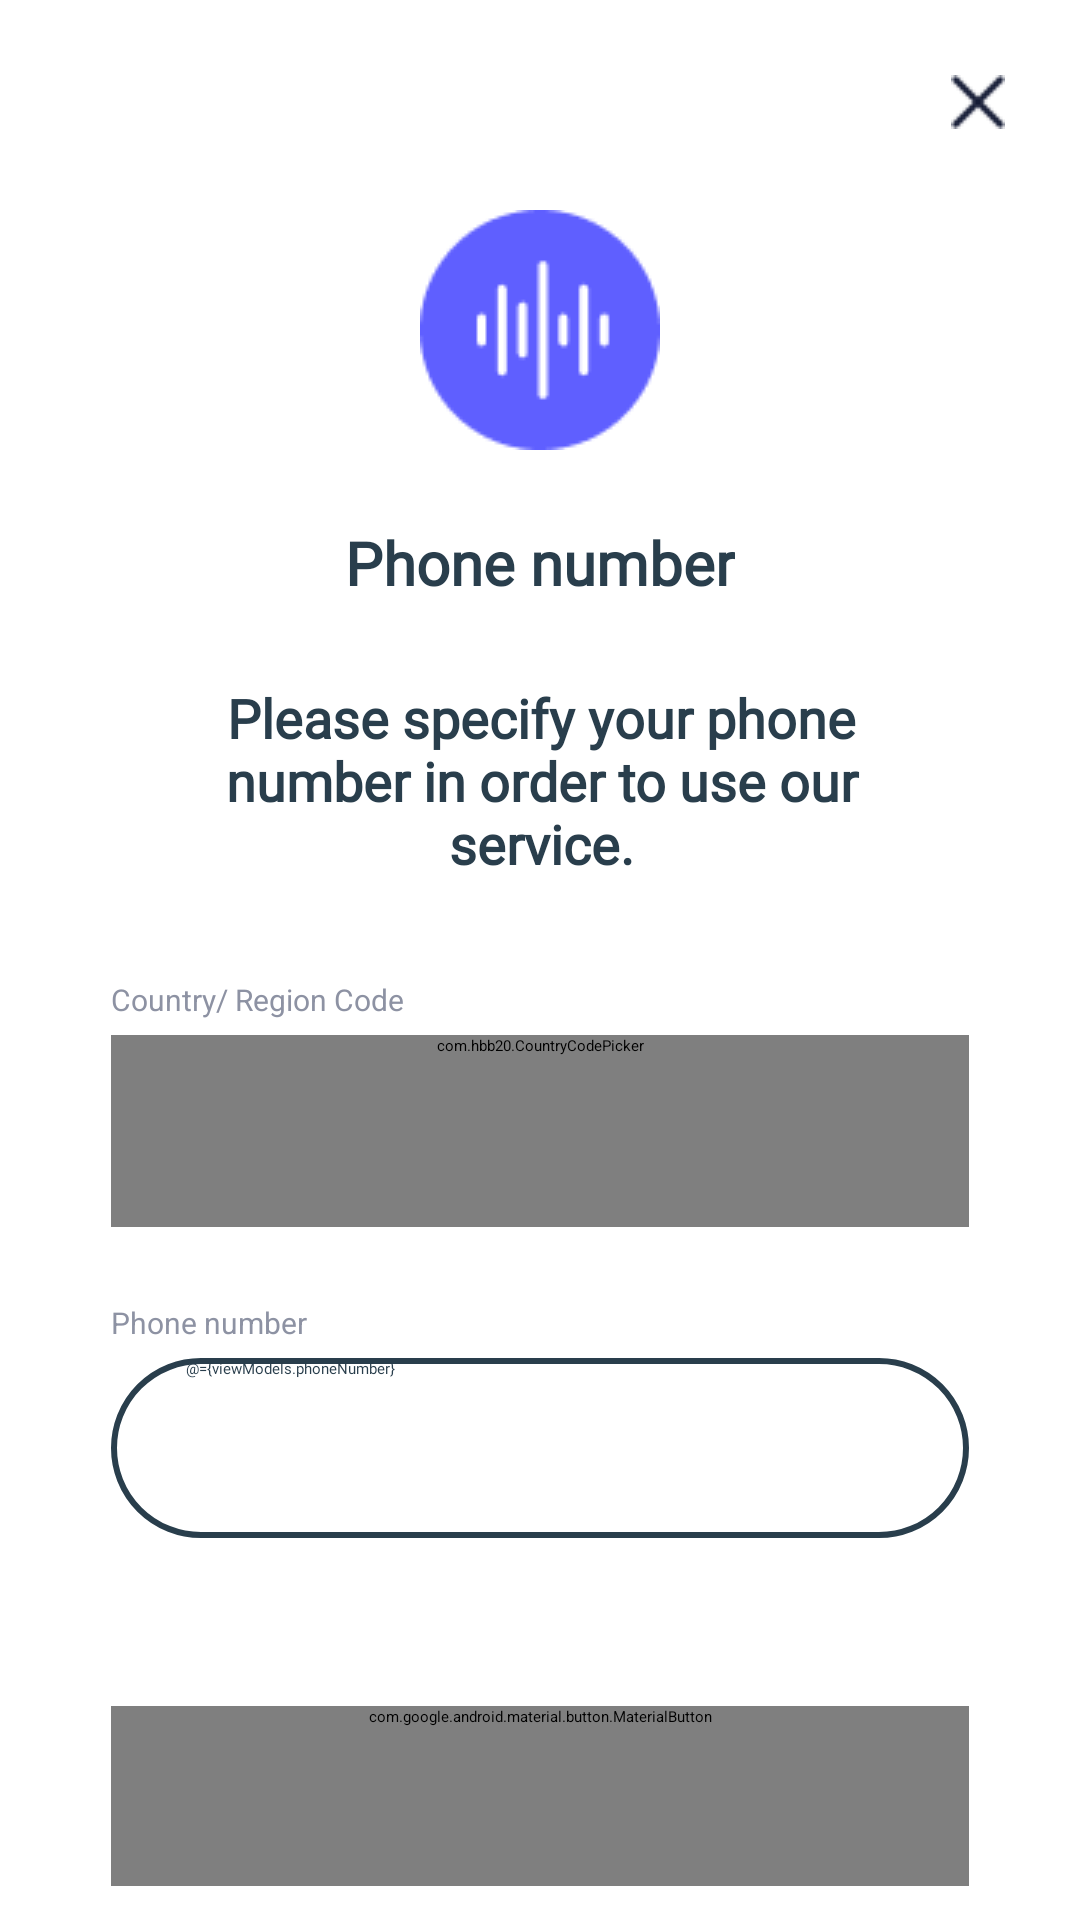

Locate icon controls on the screen. Image size 1080×1920, boxes as region(x1, y1, x2, y2).
cross: region(951, 75, 1005, 129)
